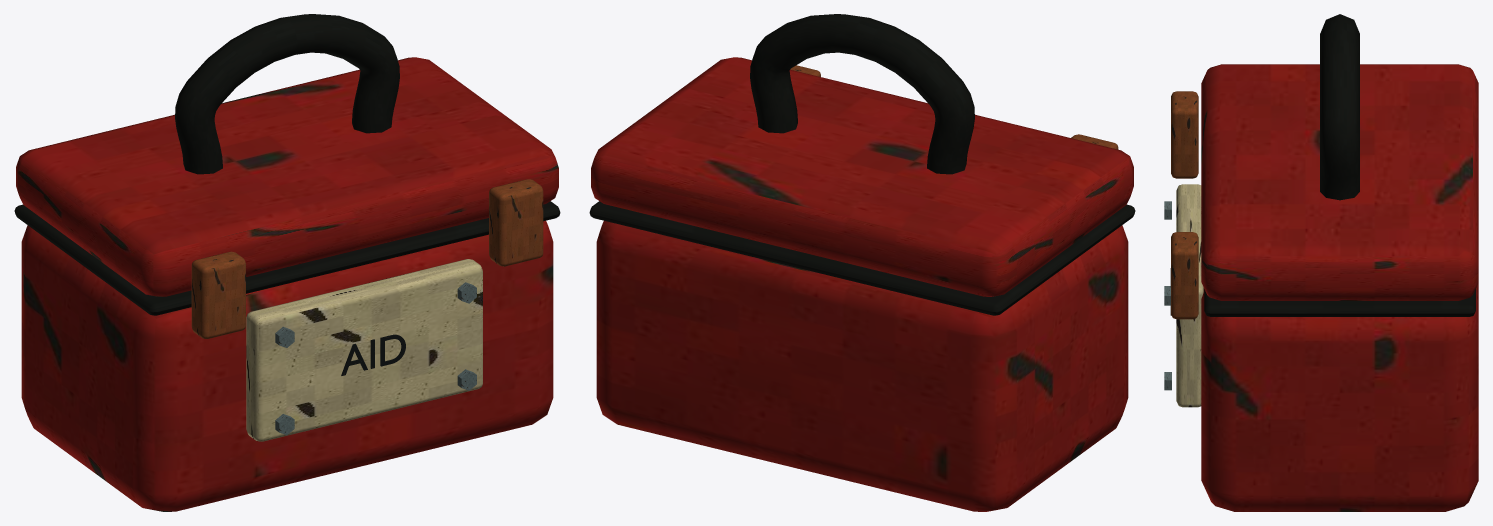
The model's file is eq-repairkit.glb.
3 renders of one model, left to right at view 1: azimuth 30°, elevation 25°; view 2: azimuth 150°, elevation 25°; view 3: azimuth 270°, elevation 25°, orthographic. The views are drawn at different scales.
Parts seen in each view (by area): view 1: Case, Lid, Cream inset.004, Carry handle.002, Lid gasket, Latch.001, Latch, Mark_AID; view 2: Case, Lid, Carry handle.002, Lid gasket; view 3: Lid, Case, Carry handle.002, Lid gasket, Cream inset.004, Latch.001, Latch.
Boxes of the visible parts, x1,y1,x2,y2 form: Case: (21,220,553,511); Lid: (16,57,558,296); Cream inset.004: (246,259,482,441); Carry handle.002: (175,14,399,174); Lid gasket: (14,201,560,315); Latch.001: (489,179,543,266); Latch: (191,251,245,338); Mark_AID: (341,334,405,375); Case: (596,220,1128,511); Lid: (591,57,1133,296); Carry handle.002: (750,14,974,174); Lid gasket: (589,201,1135,315); Lid: (1201,64,1478,300); Case: (1201,283,1478,511); Carry handle.002: (1320,14,1359,200); Lid gasket: (1204,289,1475,316); Cream inset.004: (1176,184,1203,407); Latch.001: (1171,232,1198,319); Latch: (1171,91,1198,178).
Size of the model in its own units: 0.42 by 0.3962 by 0.2835.
Materials: 6 (6 with a texture image).
